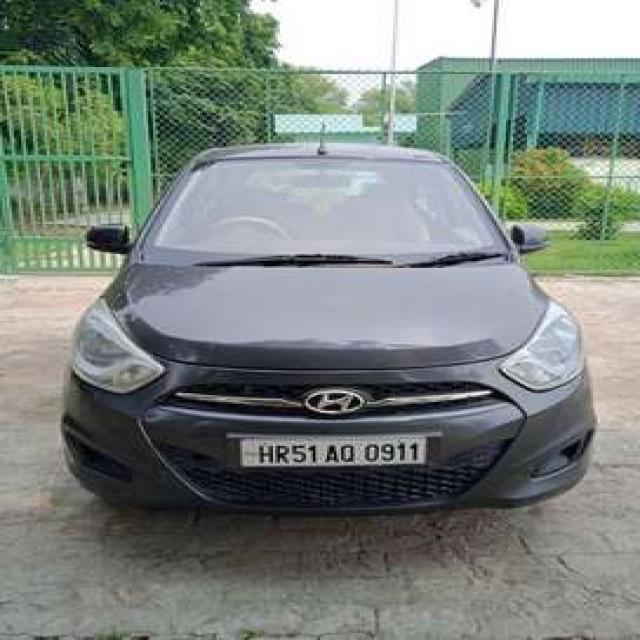license-plate: (235, 430, 421, 466)
